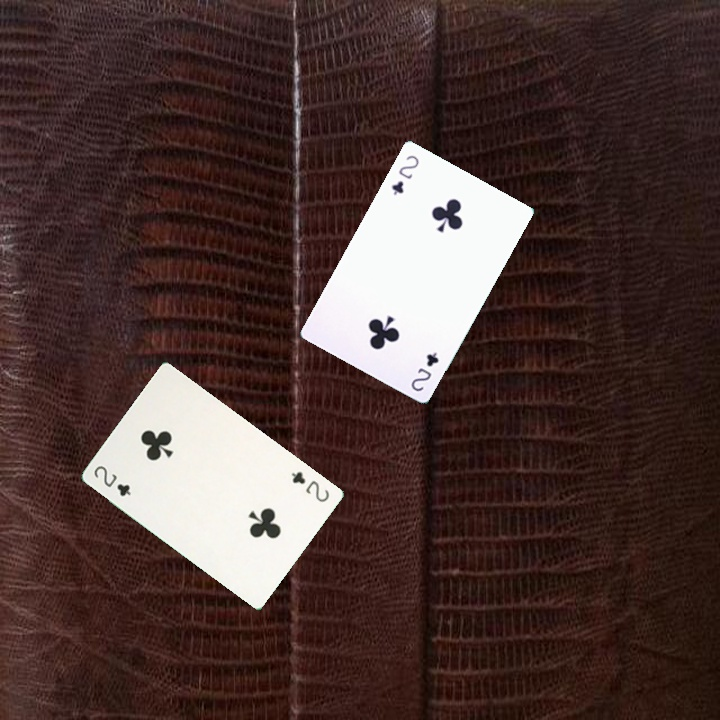2c: (287, 467, 332, 505), (387, 151, 422, 198), (90, 461, 133, 499), (407, 348, 441, 394)
